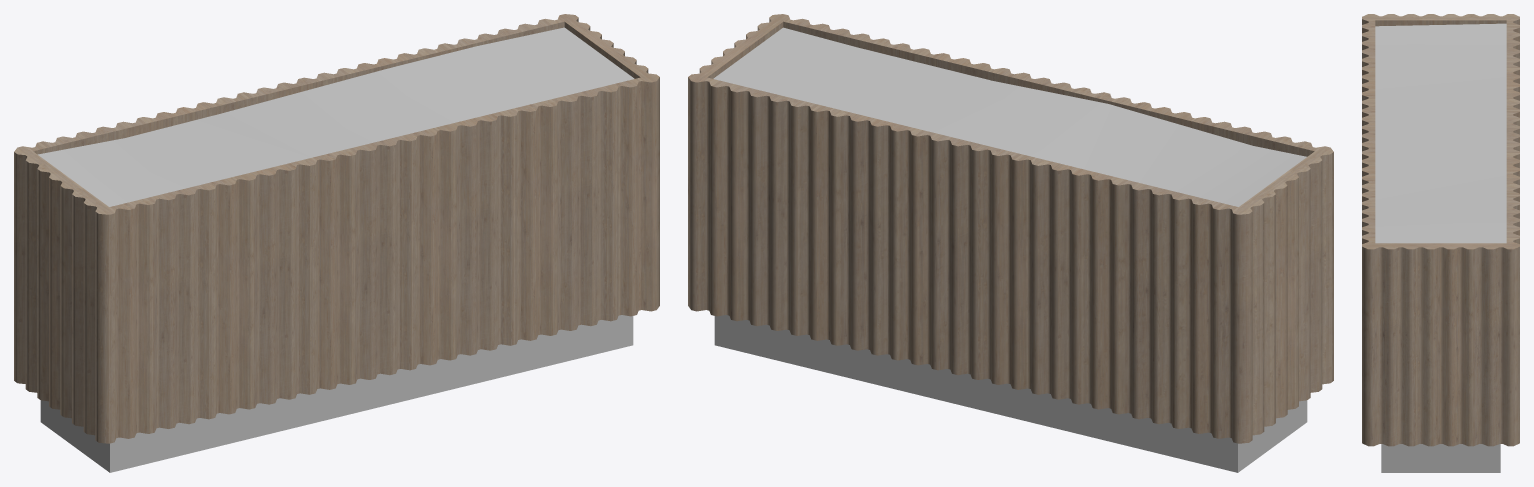
File: D_Pot_006.fbx
3 views of the same model, side by side, from view 1: azimuth 30°, elevation 25°; view 2: azimuth 150°, elevation 25°; view 3: azimuth 270°, elevation 25° (orthographic). The views are drawn at different scales.
Visible parts, largest first — view 1: D_Pot_006; view 2: D_Pot_006; view 3: D_Pot_006.
Part boxes in pixels (x1=…): D_Pot_006: x1=14, y1=14, x2=659, y2=472; D_Pot_006: x1=688, y1=14, x2=1333, y2=472; D_Pot_006: x1=1362, y1=14, x2=1519, y2=472.
Size of the model in its own units: 1.7 by 0.7777 by 0.4807.
